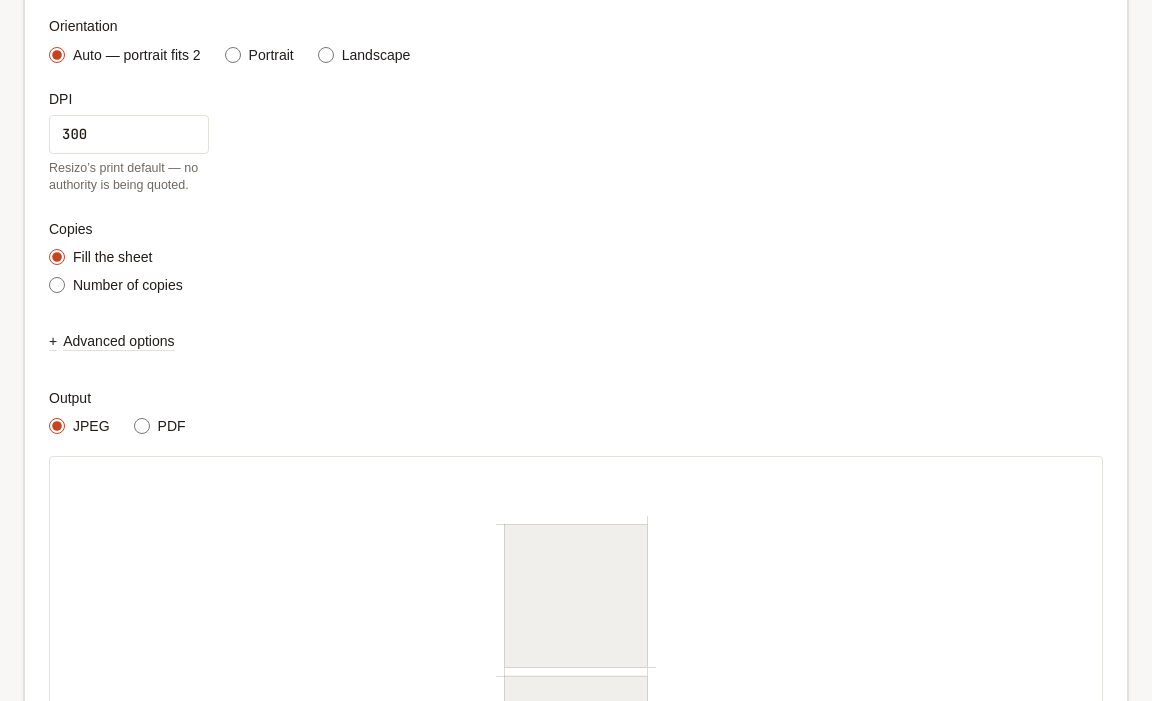
Test: Advanced options › shows the padding-colour control only once Fit inside is chosen
(page scrolled)
Click the button "+ Advanced options" at (112, 342), box left=49, top=320, right=174, bottom=364
(page scrolled)
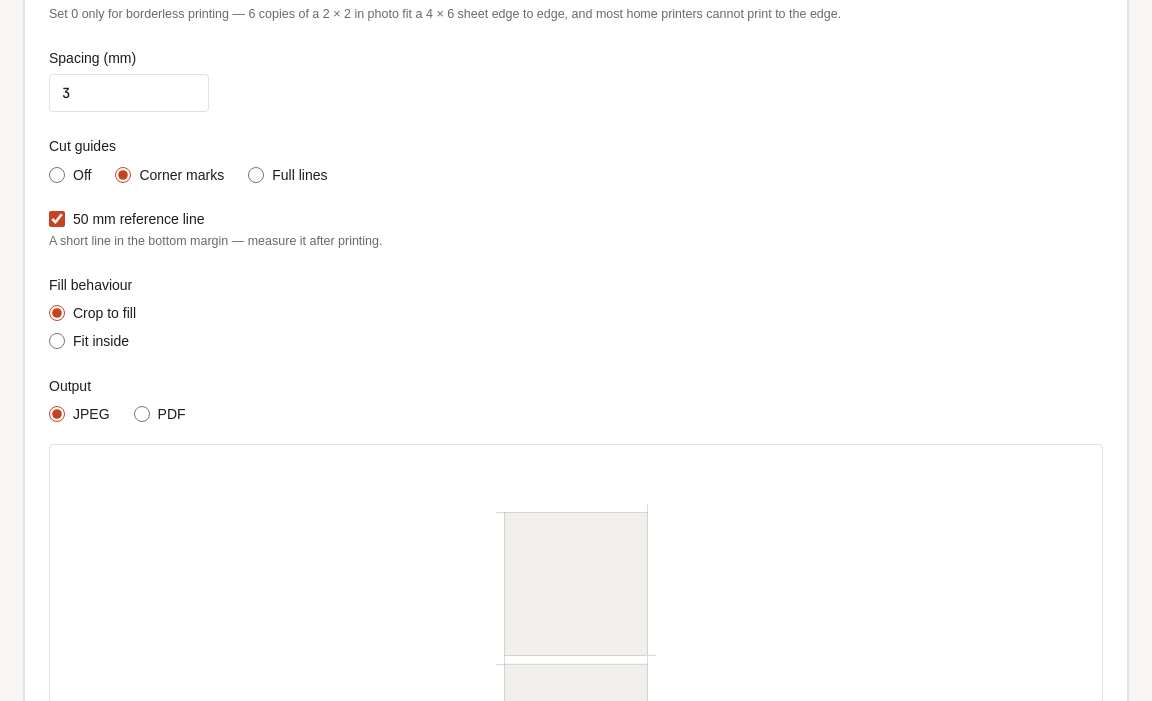
Expected: the text "transparent areas become" is not shown
Click the radio button labelled "Fit inside" at (57, 341), box left=49, top=333, right=65, bottom=349
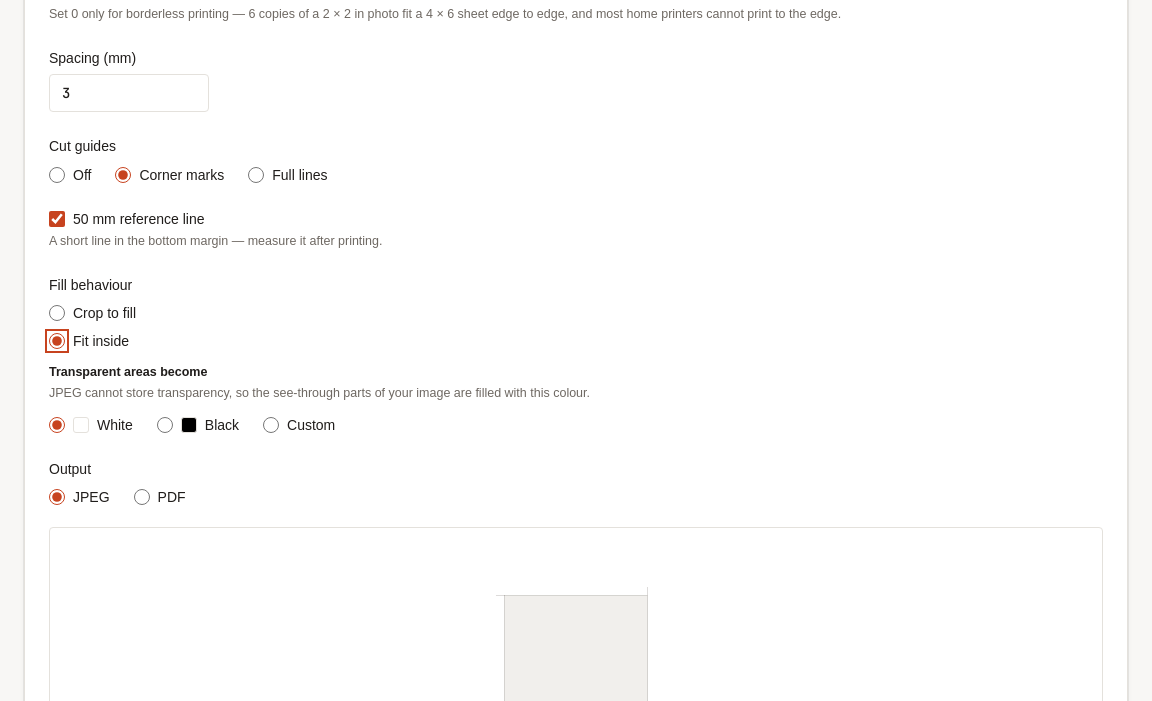
Now the text "Transparent areas become" is shown, box left=49, top=364, right=207, bottom=381
